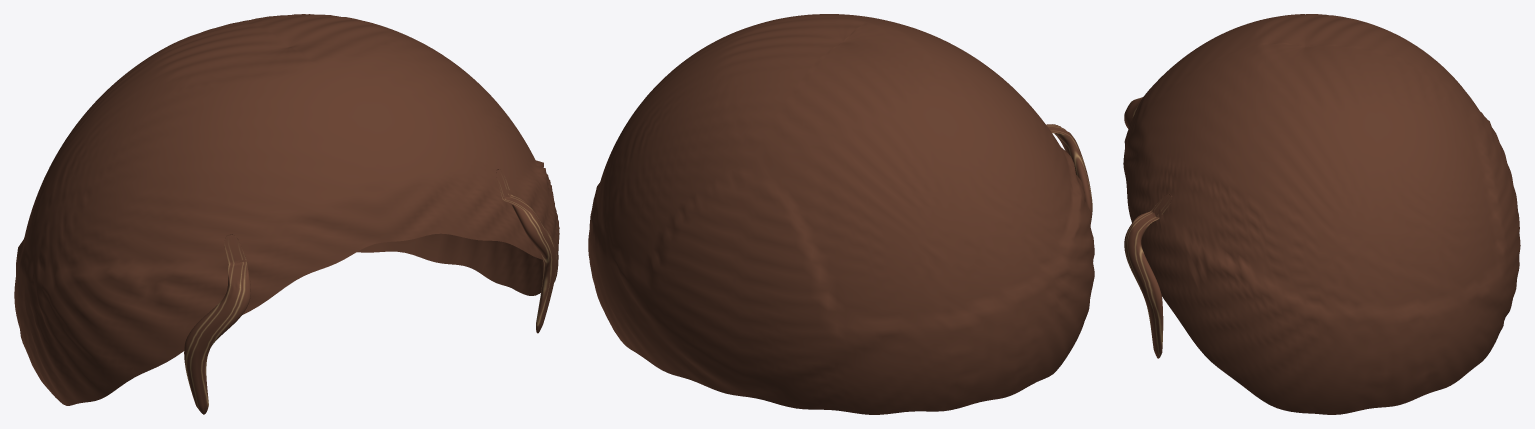
Rendered from Highlights-3772e6a4ef8e252-hair.glb.
3 renders of one model, left to right at view 1: azimuth 30°, elevation 25°; view 2: azimuth 150°, elevation 25°; view 3: azimuth 270°, elevation 25°, orthographic. The views are drawn at different scales.
Visible parts, largest first — view 1: 226 hair / Hair / chestnut226.002; view 2: 226 hair / Hair / chestnut226.002; view 3: 226 hair / Hair / chestnut226.002.
Boxes of the visible parts, x1,y1,x2,y2 form: 226 hair / Hair / chestnut226.002: [14, 14, 559, 414]; 226 hair / Hair / chestnut226.002: [588, 14, 1094, 414]; 226 hair / Hair / chestnut226.002: [1123, 14, 1520, 414].
Size of the model in its own units: 0.9981 by 0.5988 by 0.7846.
Materials: 1 (1 with a texture image).
